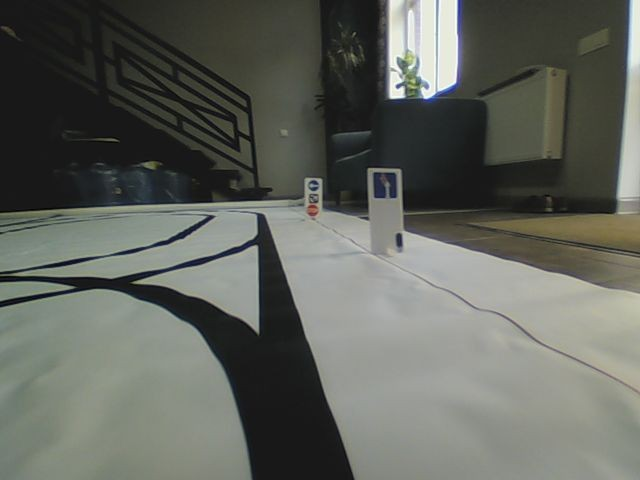priority_movement: (372, 172, 398, 198)
